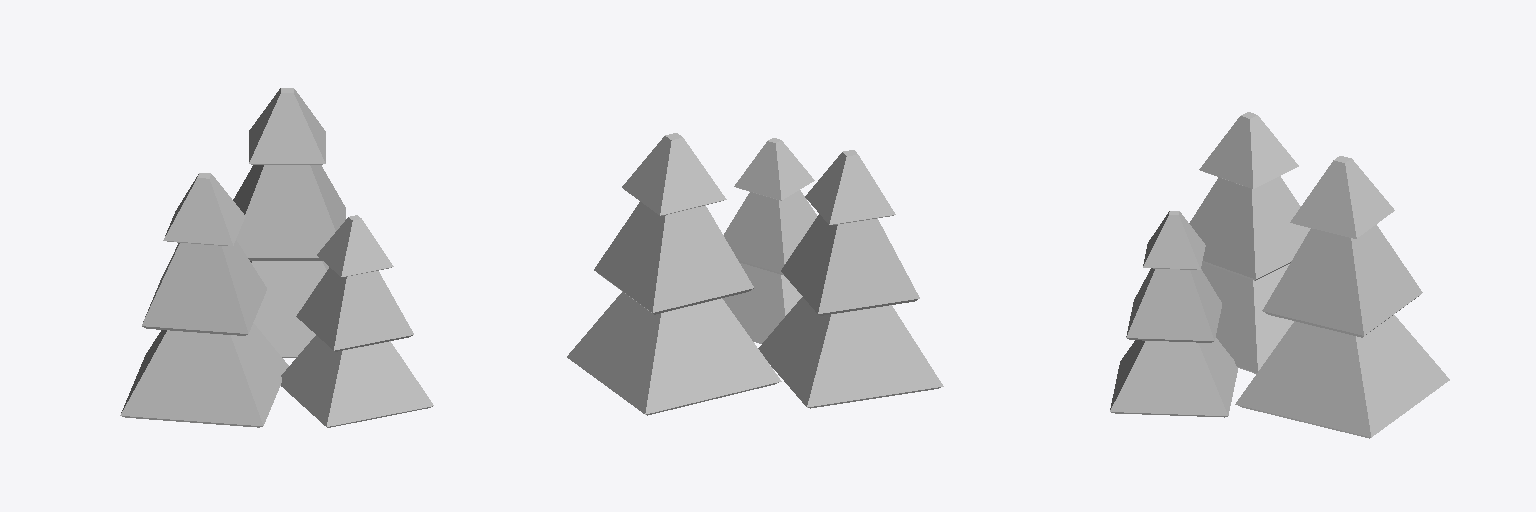
The model's file is forest.obj.
3 renders of one model, left to right at view 1: azimuth 30°, elevation 25°; view 2: azimuth 150°, elevation 25°; view 3: azimuth 270°, elevation 25°, orthographic.
Parts seen in each view (by area): view 1: Forest01; view 2: Forest01; view 3: Forest01.
Boxes of the visible parts, x1,y1,x2,y2 form: Forest01: [120, 88, 433, 427]; Forest01: [567, 133, 943, 415]; Forest01: [1110, 112, 1449, 438].
Bounding box in the file's own units: 0.8661 × 0.6751 × 0.8195.